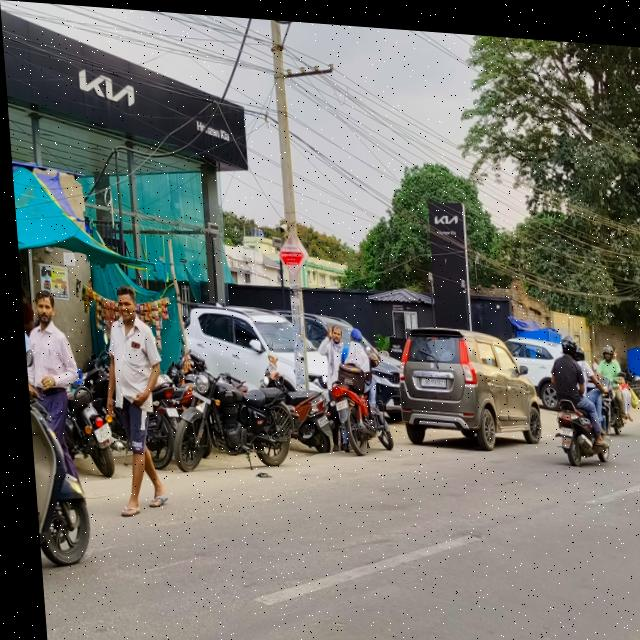bike: (162, 368, 293, 478), (256, 355, 325, 460), (546, 366, 613, 463), (325, 371, 389, 456)
car: (384, 319, 543, 448), (178, 292, 324, 401), (276, 307, 396, 405), (501, 317, 563, 401)
